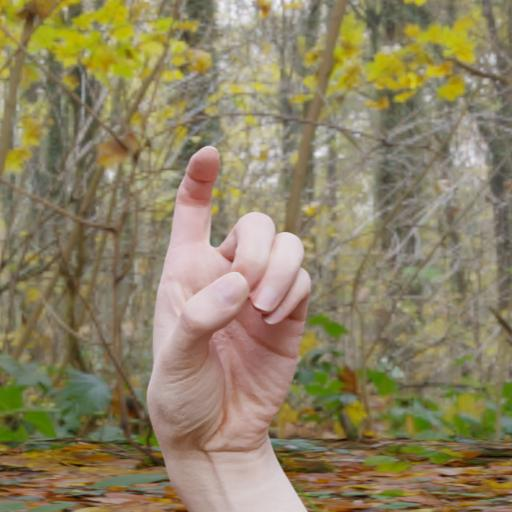X: (151, 132, 316, 463)
